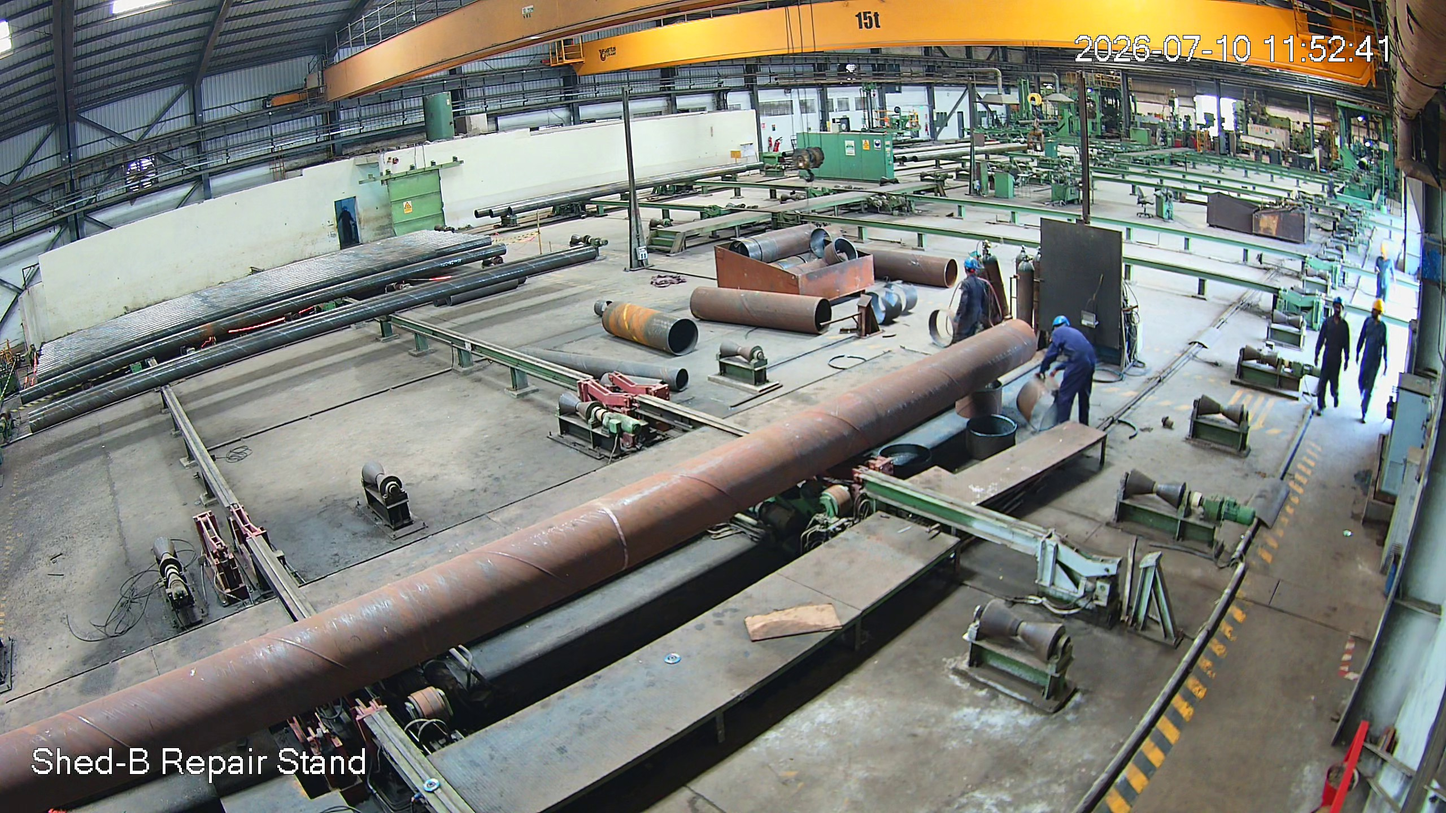Helmet: (1044, 309, 1077, 343), (1367, 296, 1392, 323), (963, 254, 979, 291), (1328, 294, 1347, 322)
Person: (1033, 314, 1103, 426), (1316, 297, 1350, 416), (1357, 299, 1388, 423), (957, 257, 988, 346)
